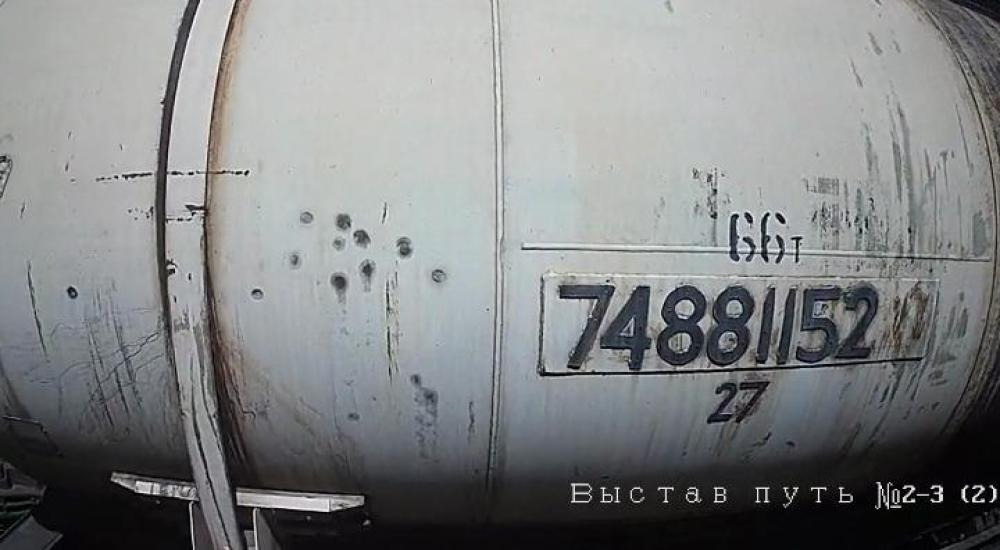Wagon-number: (550, 276, 880, 369)
